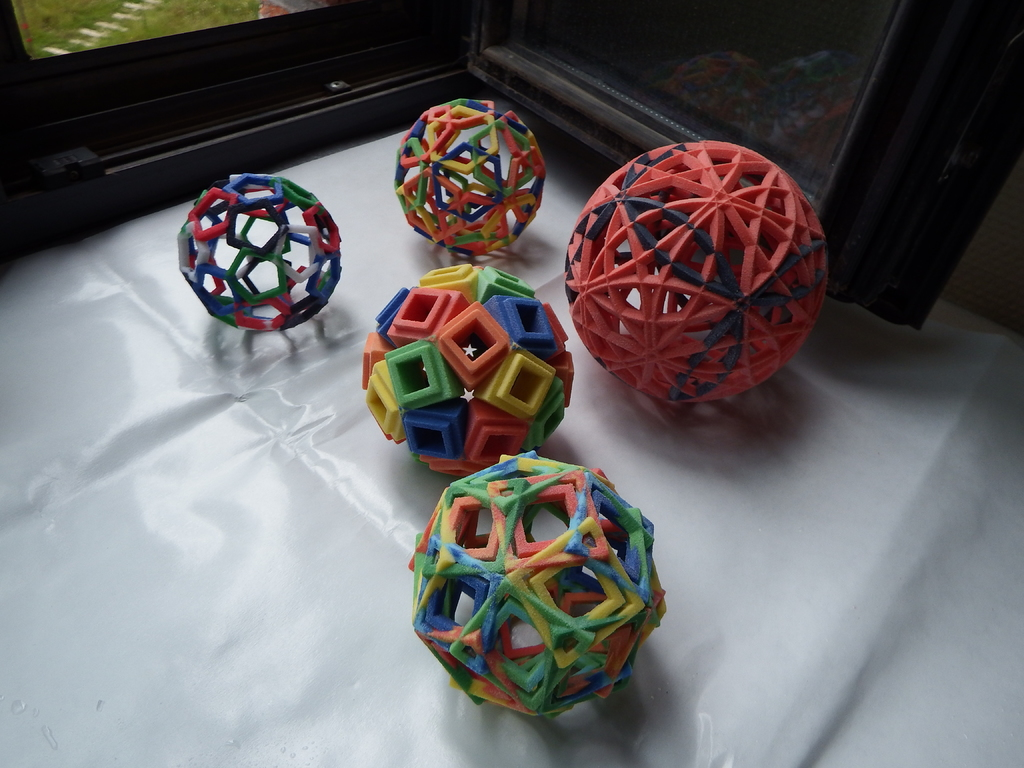Ball: (402, 446, 666, 721), (564, 140, 827, 405), (358, 261, 578, 479), (176, 171, 346, 331), (389, 99, 548, 252)
